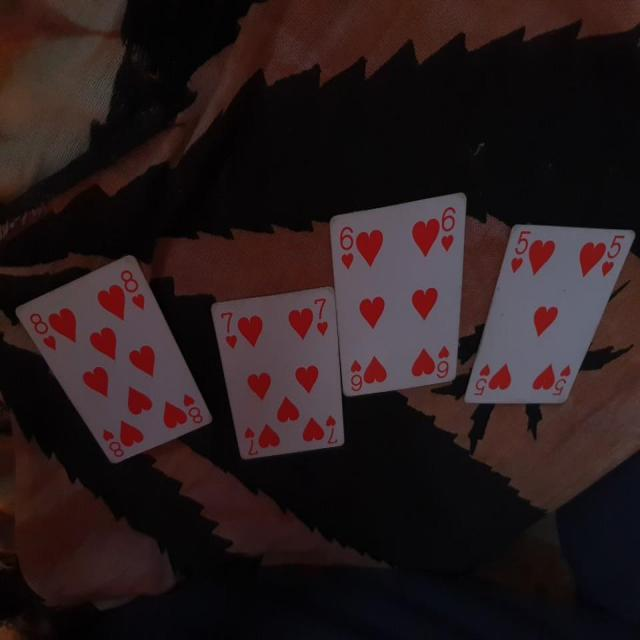5 of hearts: (462, 214, 634, 416)
6 of hearts: (324, 192, 469, 399)
7 of hearts: (210, 281, 346, 462)
8 of hearts: (16, 244, 211, 462)
